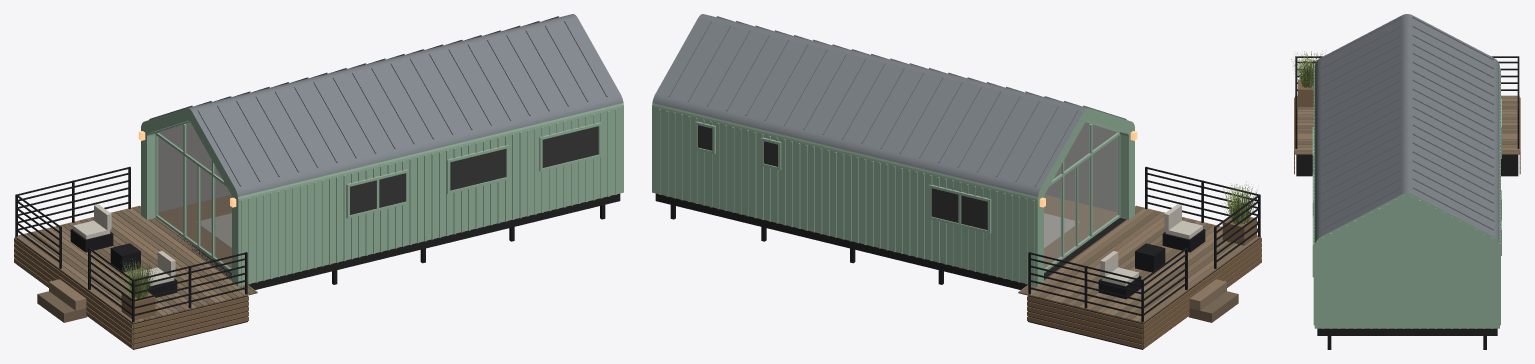
Rendered from sirius40.glb.
3 views of the same model, side by side, from view 1: azimuth 30°, elevation 25°; view 2: azimuth 150°, elevation 25°; view 3: azimuth 270°, elevation 25° (orthographic). The views are drawn at different scales.
Visible parts, largest first — view 1: Coque, Couvre-joints, Verrière, Garde-corps, Habillage terrasse, Fonds intérieurs, Vitrages fenêtres, Joints debout, Terrasse lames 1, Terrasse lames 2, Terrasse lames 0, Dessous (+9 smaller); view 2: Coque, Couvre-joints, Verrière, Garde-corps, Habillage terrasse, Joints debout, Terrasse lames 2, Terrasse lames 1, Terrasse lames 0, Dessous, Fonds intérieurs, Menuiseries verrière (+9 smaller); view 3: Coque, Joints debout, Couvre-joints, Dessous, Garde-corps, Terrasse lames 0, Terrasse ossature, Terrasse lames 1, Terrasse lames 2, Graminées, Menuiseries fenêtres, Jardinière (+1 smaller).
Part boxes in pixels (x1,y1,x2,y2): Coque: (141, 14, 623, 286); Couvre-joints: (241, 109, 616, 286); Verrière: (158, 122, 231, 268); Garde-corps: (15, 166, 247, 322); Habillage terrasse: (14, 237, 248, 348); Fonds intérieurs: (350, 126, 598, 214); Vitrages fenêtres: (350, 126, 598, 214); Joints debout: (149, 16, 607, 186); Terrasse lames 1: (26, 206, 255, 322); Terrasse lames 2: (21, 207, 249, 321); Terrasse lames 0: (15, 205, 257, 323); Dessous: (154, 193, 620, 289); Coque: (652, 14, 1134, 286); Couvre-joints: (659, 109, 1034, 286); Verrière: (1044, 122, 1117, 268); Garde-corps: (1028, 166, 1260, 322); Habillage terrasse: (1027, 237, 1261, 348); Joints debout: (668, 16, 1126, 186); Terrasse lames 2: (1026, 207, 1241, 321); Terrasse lames 1: (1020, 206, 1238, 322); Terrasse lames 0: (1018, 205, 1260, 323); Dessous: (655, 193, 1126, 289); Fonds intérieurs: (698, 125, 987, 229); Menuiseries verrière: (1044, 121, 1120, 272); Coque: (1314, 14, 1499, 328); Joints debout: (1320, 17, 1494, 230); Couvre-joints: (1313, 69, 1500, 328); Dessous: (1317, 328, 1497, 335); Garde-corps: (1295, 56, 1519, 148); Terrasse lames 0: (1295, 95, 1519, 154); Terrasse ossature: (1296, 154, 1518, 176); Terrasse lames 1: (1295, 101, 1519, 152); Terrasse lames 2: (1295, 98, 1519, 149); Graminées: (1291, 51, 1324, 88); Menuiseries fenêtres: (1312, 98, 1501, 277); Jardinière: (1298, 79, 1313, 106).
Bounding box in the file's own units: 13.62 × 4.22 × 5.43.
